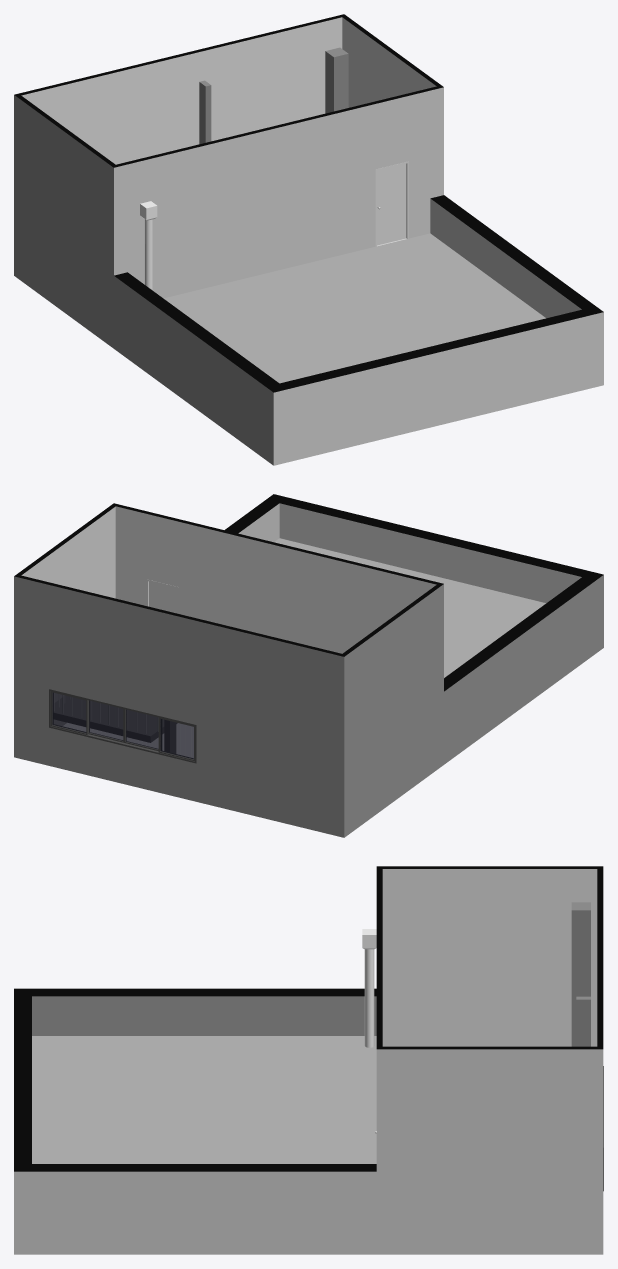
Rendered from soulbrain_T5-1-5F.glb.
3 renders of one model, top to bottom at view 1: azimuth 30°, elevation 25°; view 2: azimuth 150°, elevation 25°; view 3: azimuth 270°, elevation 25°, orthographic. The views are drawn at different scales.
Parts seen in each view (by area): view 1: Rectangle1031, Rectangle1032, Plane158, T5-1-5F, Single_Door_026; view 2: Rectangle1031, Rectangle1032, Plane158, T5-1-5F, Single_Door_026; view 3: Rectangle1031, Rectangle1032, Plane158, T5-1-5F.
Part boxes in pixels (<box>): Rectangle1031: <box>14,14,443,348</box>; Rectangle1032: <box>114,195,603,465</box>; Plane158: <box>163,233,545,383</box>; T5-1-5F: <box>140,47,348,290</box>; Single_Door_026: <box>375,161,408,246</box>; Rectangle1031: <box>14,503,443,837</box>; Rectangle1032: <box>224,494,603,764</box>; Plane158: <box>274,538,545,677</box>; T5-1-5F: <box>49,689,196,763</box>; Single_Door_026: <box>146,579,179,613</box>; Rectangle1031: <box>376,866,603,1254</box>; Rectangle1032: <box>14,988,376,1254</box>; Plane158: <box>32,1036,376,1163</box>; T5-1-5F: <box>362,902,603,1191</box>.
Size of the model in its own units: 8.98 by 4.7 by 12.24.
Materials: 10 (1 with a texture image).
